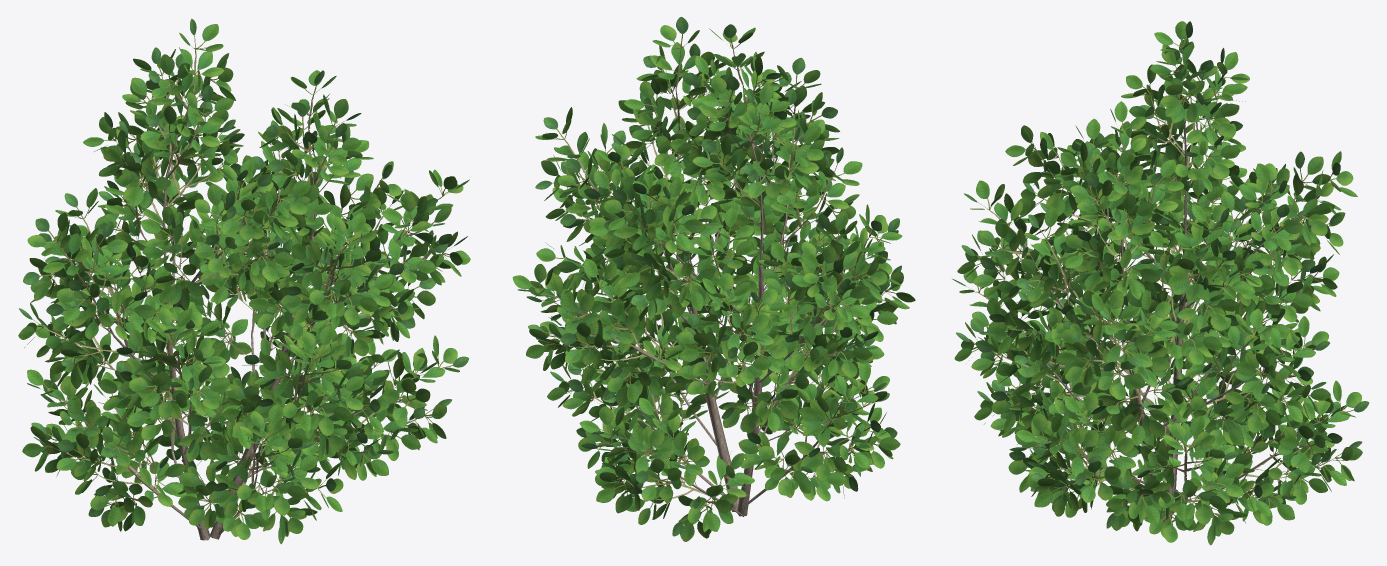
File: MS_ShrubTree05c.fbx
The picture shows the model from 3 angles, left to right: view 1: azimuth 30°, elevation 25°; view 2: azimuth 150°, elevation 25°; view 3: azimuth 270°, elevation 25°; orthographic projection. The views are drawn at different scales.
Parts seen in each view (by area): view 1: Leaves, TreeBare; view 2: Leaves, TreeBare; view 3: Leaves, TreeBare.
Part boxes in pixels (<box>): Leaves: <box>18,18,470,544</box>; TreeBare: <box>95,134,381,540</box>; Leaves: <box>512,17,915,541</box>; TreeBare: <box>616,130,829,516</box>; Leaves: <box>952,21,1369,545</box>; TreeBare: <box>1045,119,1277,522</box>.
Size of the model in its own units: 427 by 514 by 389.
